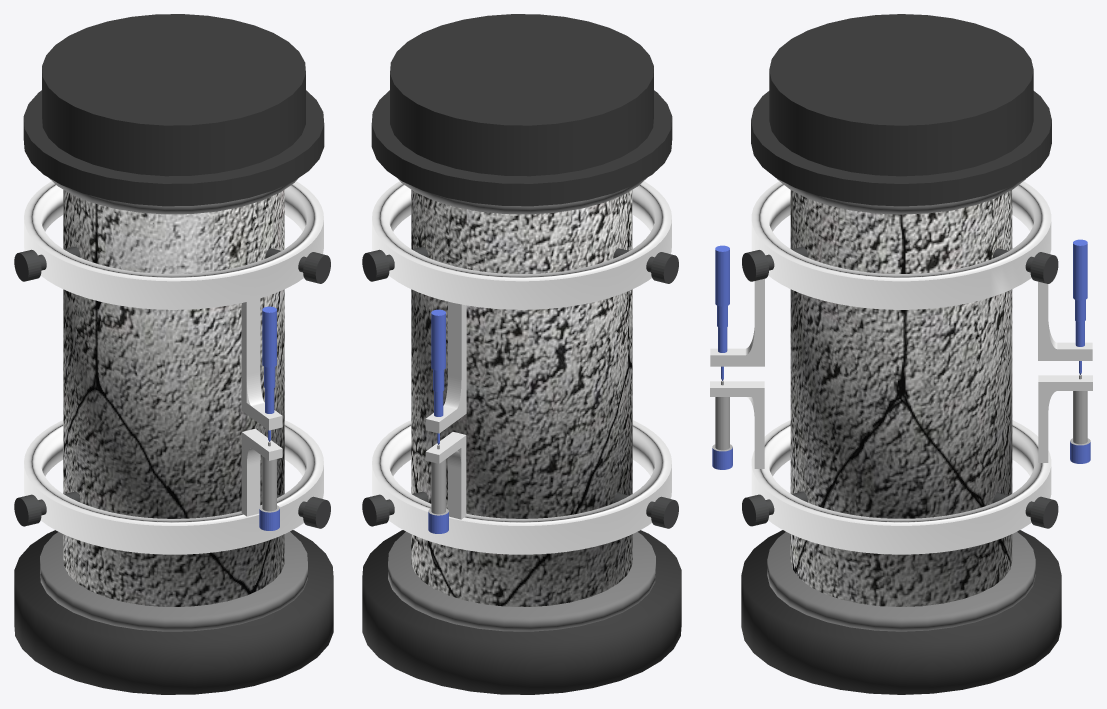
The model's file is cilindro-cone-and-split.gltf.
3 views of the same model, side by side, from view 1: azimuth 30°, elevation 25°; view 2: azimuth 150°, elevation 25°; view 3: azimuth 270°, elevation 25° (orthographic).
Parts seen in each view (by area): view 1: cilindroConcreto, apoyo_sup, compresometro, apoyo_inf, espuma_inf, espuma_sup; view 2: cilindroConcreto, apoyo_sup, compresometro, apoyo_inf, espuma_inf, espuma_sup; view 3: cilindroConcreto, apoyo_sup, compresometro, apoyo_inf, espuma_inf, espuma_sup.
Boxes of the visible parts, box(x1,y1,x2,y2) form: cilindroConcreto: box(63, 190, 284, 606); apoyo_sup: box(23, 14, 324, 206); compresometro: box(14, 181, 330, 554); apoyo_inf: box(14, 530, 333, 694); espuma_inf: box(40, 531, 307, 631); espuma_sup: box(49, 178, 298, 214); cilindroConcreto: box(411, 190, 632, 606); apoyo_sup: box(371, 14, 672, 206); compresometro: box(362, 181, 678, 554); apoyo_inf: box(362, 530, 681, 694); espuma_inf: box(388, 531, 655, 631); espuma_sup: box(397, 178, 646, 214); cilindroConcreto: box(790, 190, 1012, 606); apoyo_sup: box(751, 14, 1051, 206); compresometro: box(710, 181, 1092, 554); apoyo_inf: box(741, 530, 1061, 694); espuma_inf: box(767, 532, 1035, 631); espuma_sup: box(777, 178, 1025, 214).
Bounding box in the file's own units: 0.2263 × 0.4159 × 0.2589.
Materials: 7 (1 with a texture image).
